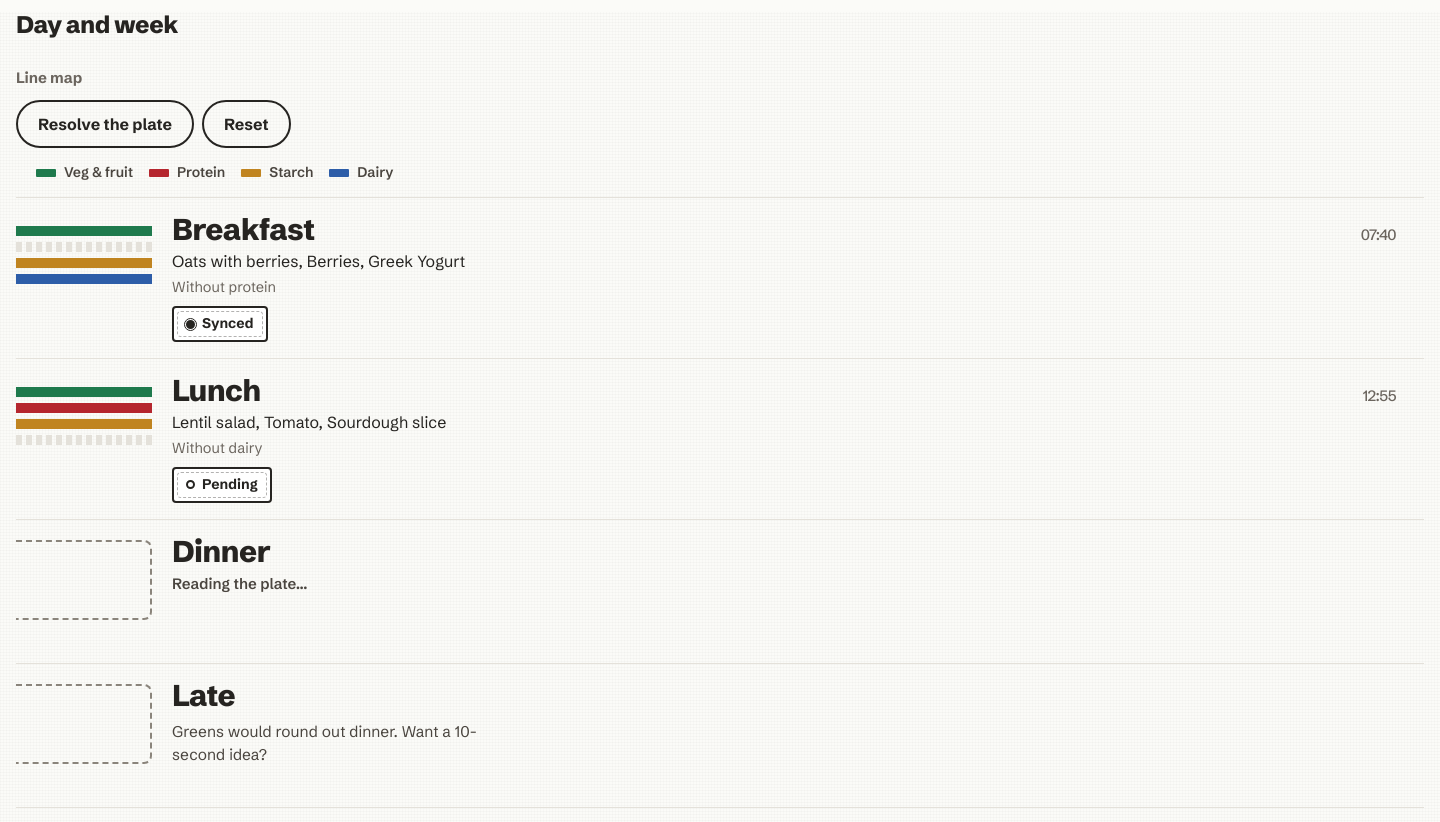
Test case: DayGallerySection › renders every state and resolves a plate on demand
expect the text "Reading the plate…" is shown: met, box [172,574,308,593]
expect the button "Greens would round out dinner. Want a 10-second idea?" is shown: met, box [172,717,494,770]
What coordinates should you click on to do the following:
click the button "Resolve the plate"
I would click on:
 (105, 124)
Its box is [16,100,194,148].
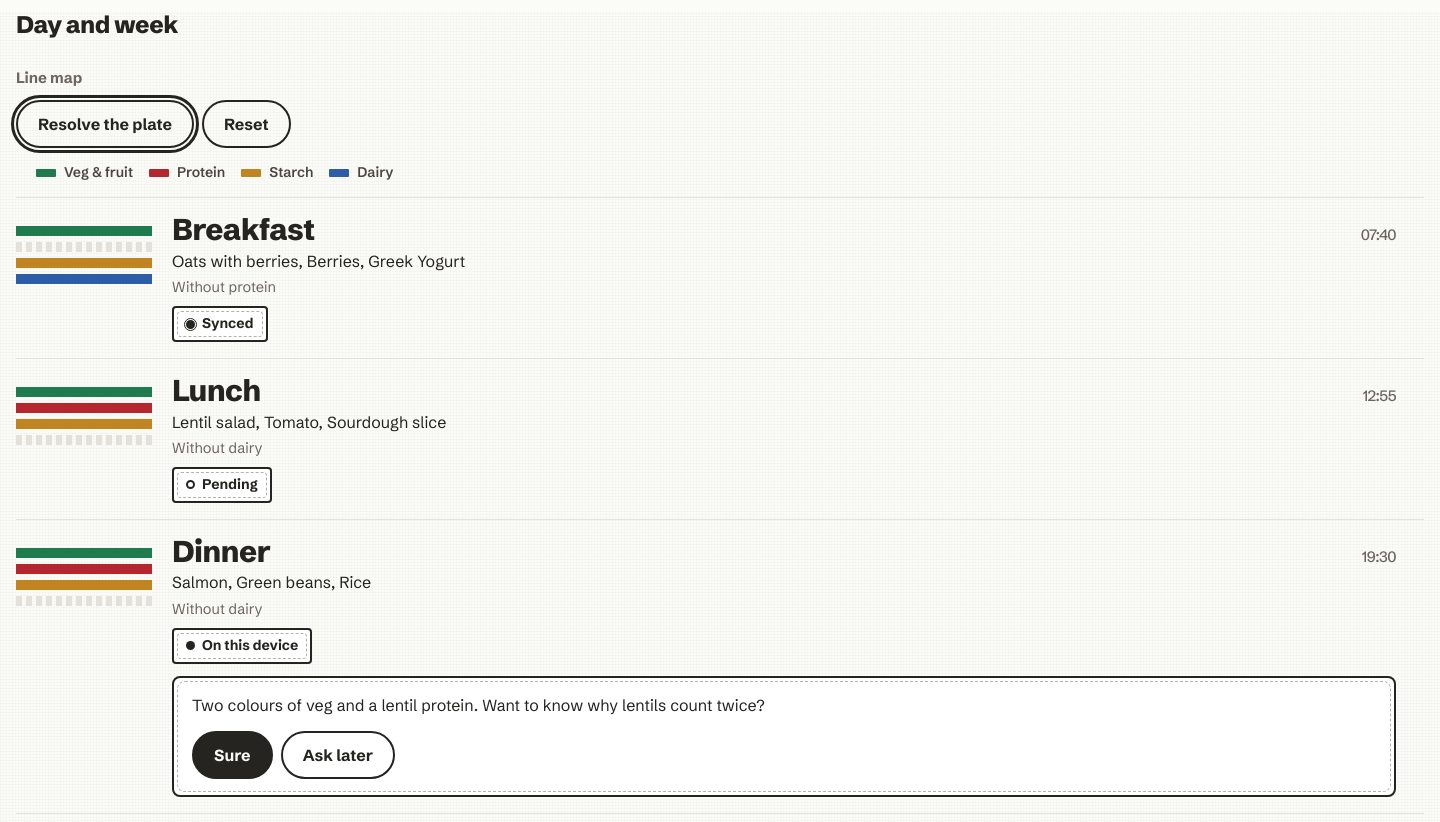
expect the text "Reading the plate…" is gone: met
expect the number of elements named "Coach question" is 2: met
